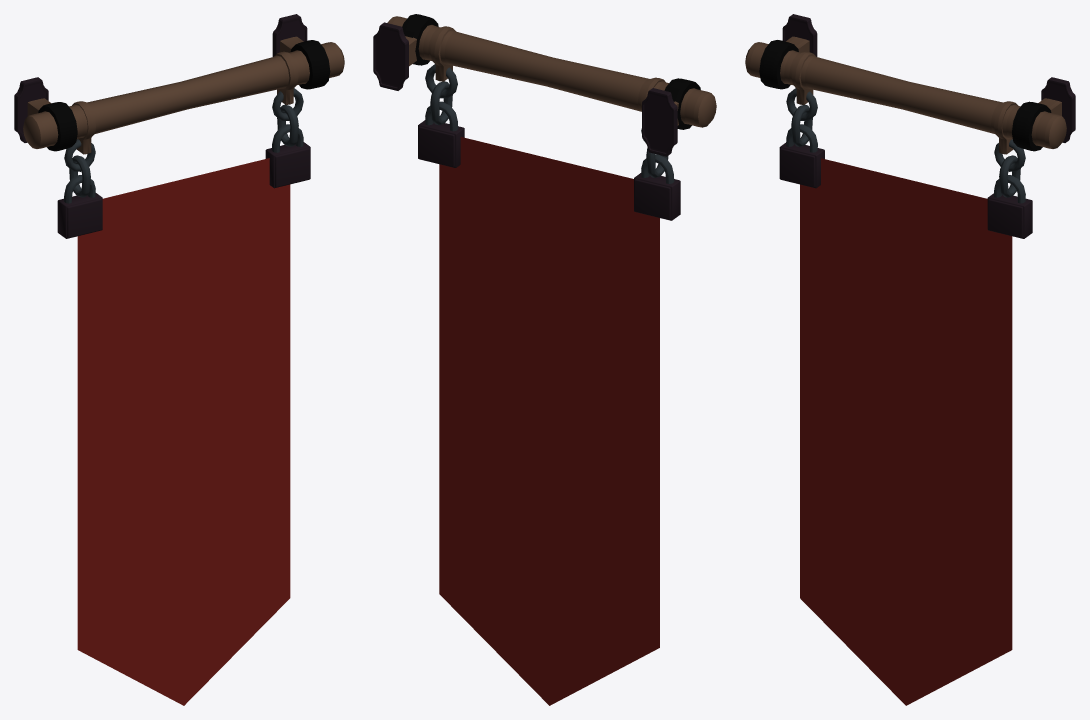
Rendered from Flag1.fbx.
3 renders of one model, left to right at view 1: azimuth 30°, elevation 25°; view 2: azimuth 150°, elevation 25°; view 3: azimuth 330°, elevation 25°, orthographic. The views are drawn at different scales.
Parts seen in each view (by area): view 1: Flag1; view 2: Flag1; view 3: Flag1.
Part boxes in pixels (x1=…): Flag1: x1=14, y1=14, x2=344, y2=705; Flag1: x1=373, y1=14, x2=716, y2=705; Flag1: x1=745, y1=14, x2=1075, y2=705.
Size of the model in its own units: 1.68 by 3.34 by 0.3502.
